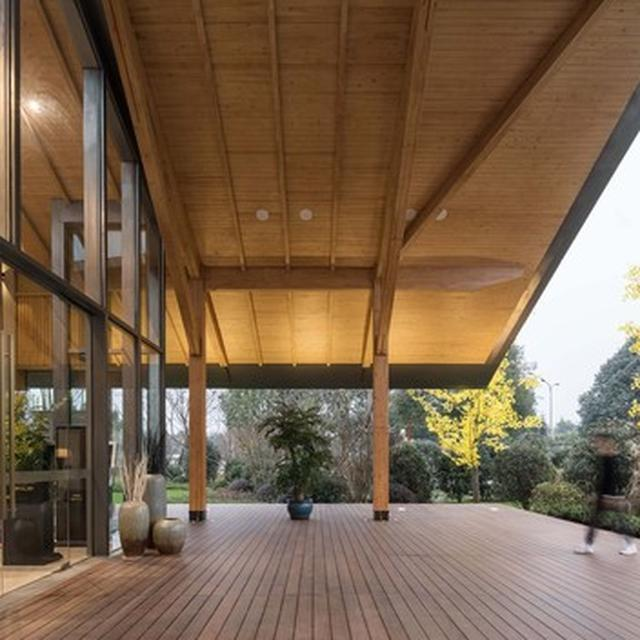building: (0, 0, 167, 619)
